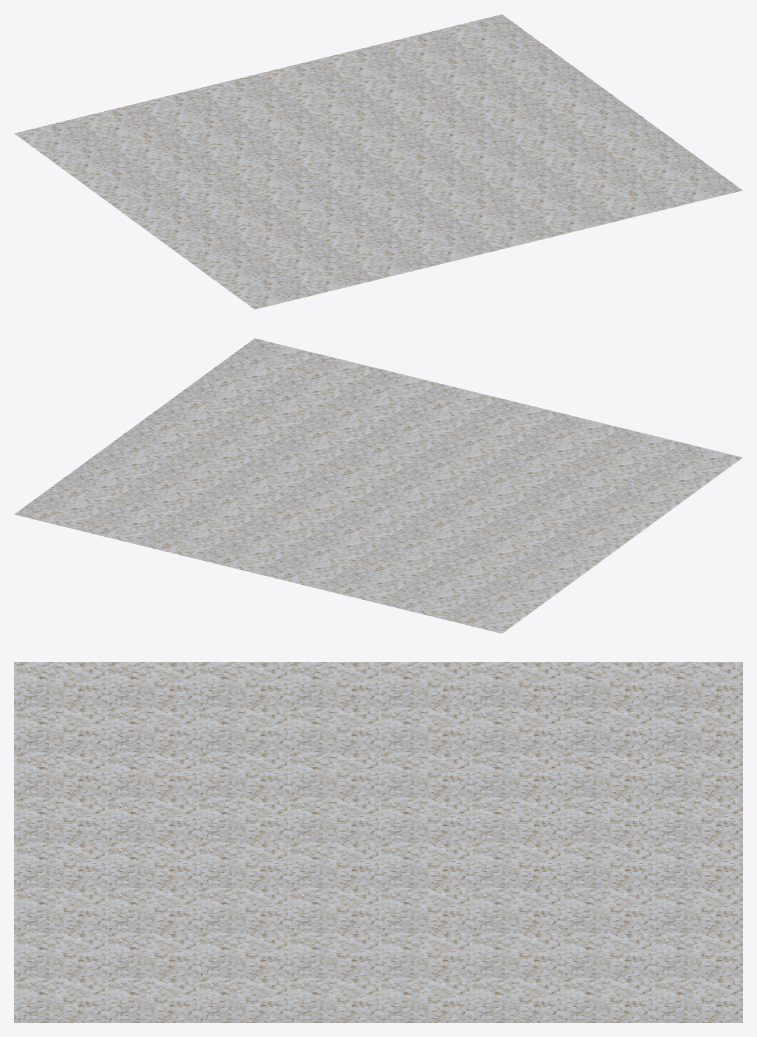
The model's file is Aseet_06_04_Rice.fbx.
3 views of the same model, one above another, from view 1: azimuth 30°, elevation 25°; view 2: azimuth 150°, elevation 25°; view 3: azimuth 270°, elevation 25° (orthographic). The views are drawn at different scales.
Parts seen in each view (by area): view 1: SK_06_04_Rice; view 2: SK_06_04_Rice; view 3: SK_06_04_Rice.
Boxes of the visible parts, <box> form: SK_06_04_Rice: <box>14,14,742,309</box>; SK_06_04_Rice: <box>14,338,742,633</box>; SK_06_04_Rice: <box>14,662,742,1022</box>.
Size of the model in its own units: 1.22 by 0 by 1.04.
Materials: 1 (1 with a texture image).
